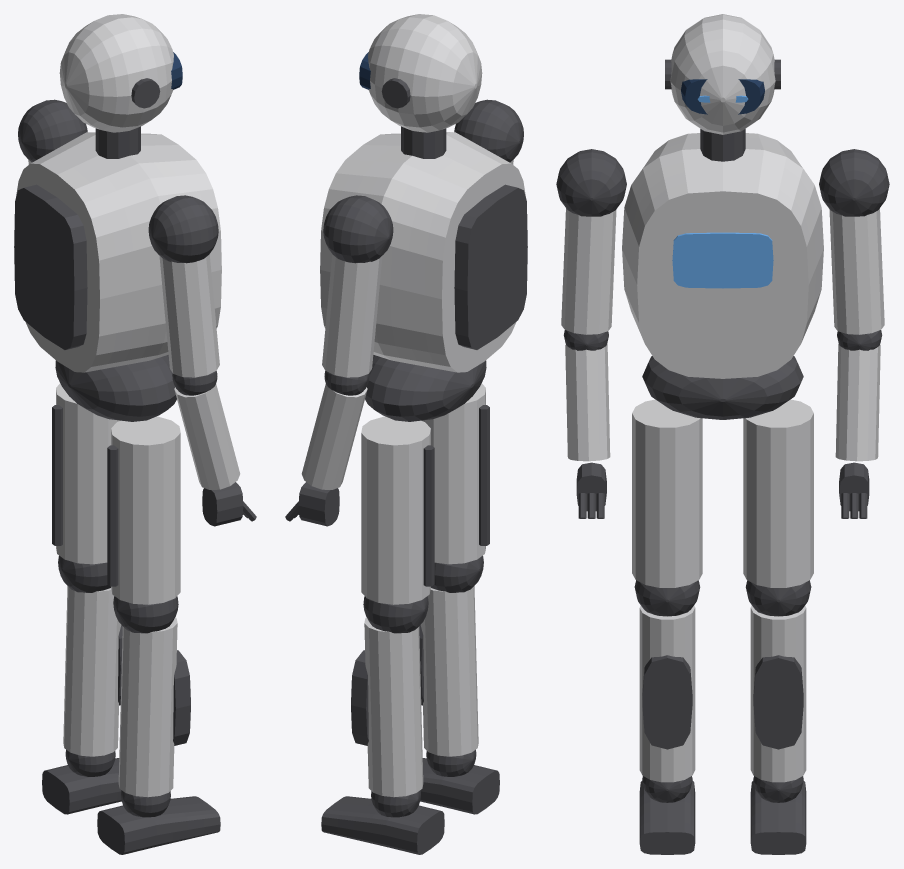
The model's file is SM_Prop_RobotHumanoid.fbx.
The picture shows the model from 3 angles, left to right: view 1: azimuth 30°, elevation 25°; view 2: azimuth 150°, elevation 25°; view 3: azimuth 270°, elevation 25°; orthographic projection.
Visible parts, largest first — view 1: SM_Prop_RobotHumanoid; view 2: SM_Prop_RobotHumanoid; view 3: SM_Prop_RobotHumanoid.
Part boxes in pixels (x1,y1,x2,y2): SM_Prop_RobotHumanoid: (14,14,256,854); SM_Prop_RobotHumanoid: (285,14,527,854); SM_Prop_RobotHumanoid: (556,14,889,854).
Bounding box in the file's own units: 0.66 × 0.3255 × 1.76.
